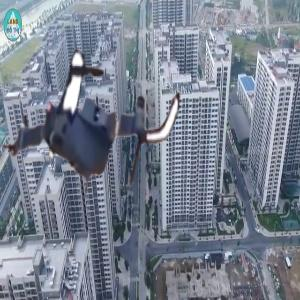drone: (2, 30, 184, 212)
